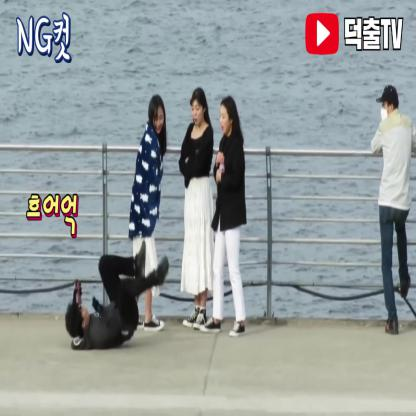Fall_Down: (64, 237, 170, 352)
